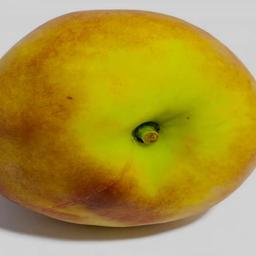Peach Semifresh: (1, 8, 256, 233)
